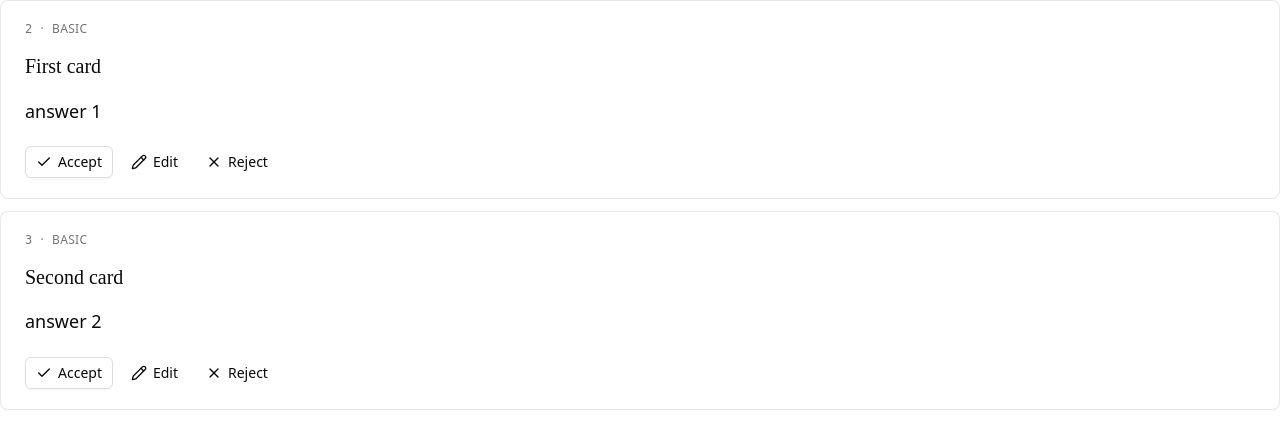
Test: accepting and rejecting › rejects the card whose button was pressed, not the first one
Click the button "Reject" below "answer 2": {"x": 237, "y": 372} 196,356 -> 278,388
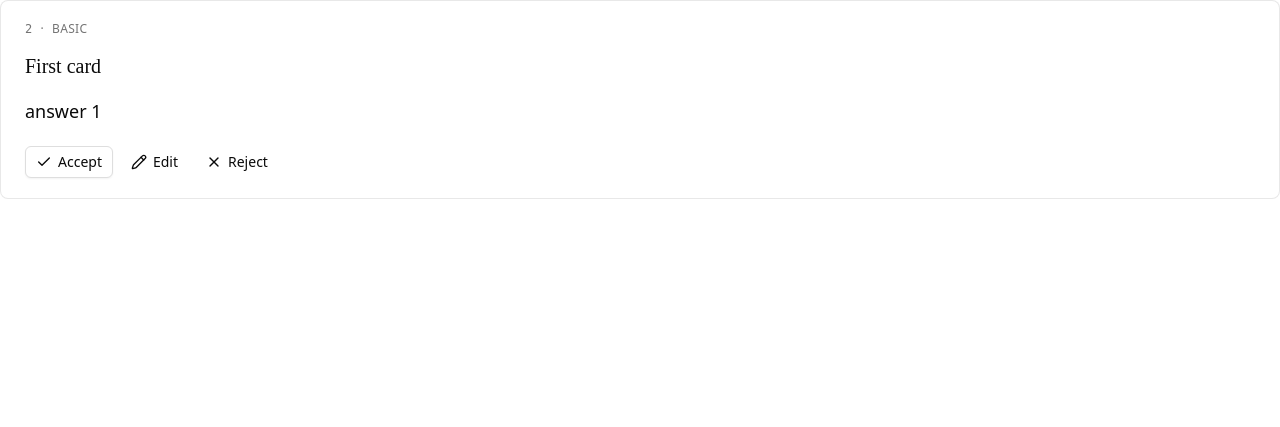
Expected: the text "First card" is shown, 25,55 -> 101,77
Expected: the text "Second card" is gone
